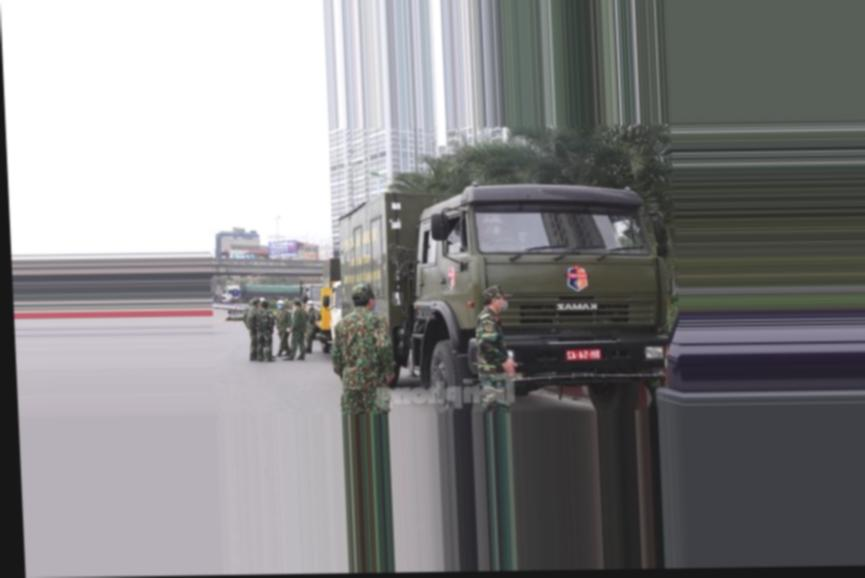License_Plate: (560, 344, 605, 365)
